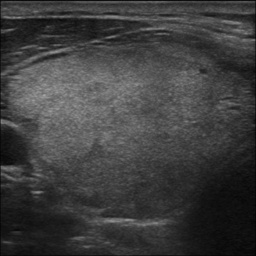mass: (9, 41, 252, 221)
